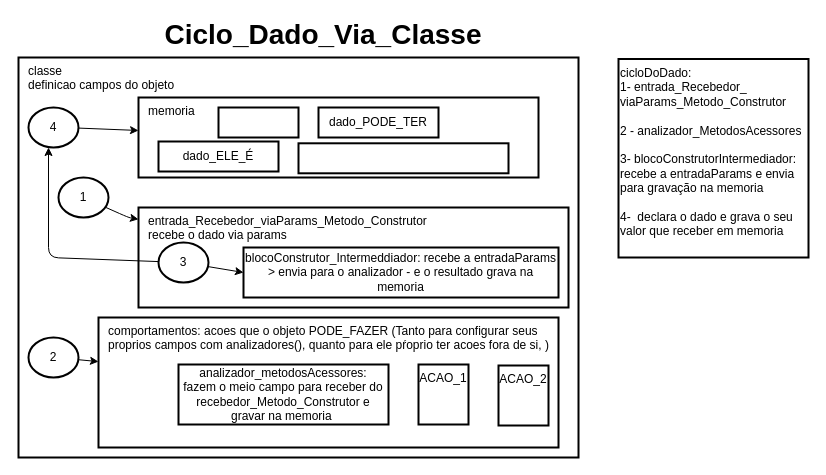
Image size: 826x475. Some labels were removed from this diagram. Each missing label, with the centre of its shape:
dado_RESULTADO_COMPUTADO: point 403,158
dado_TEM: point 258,122
